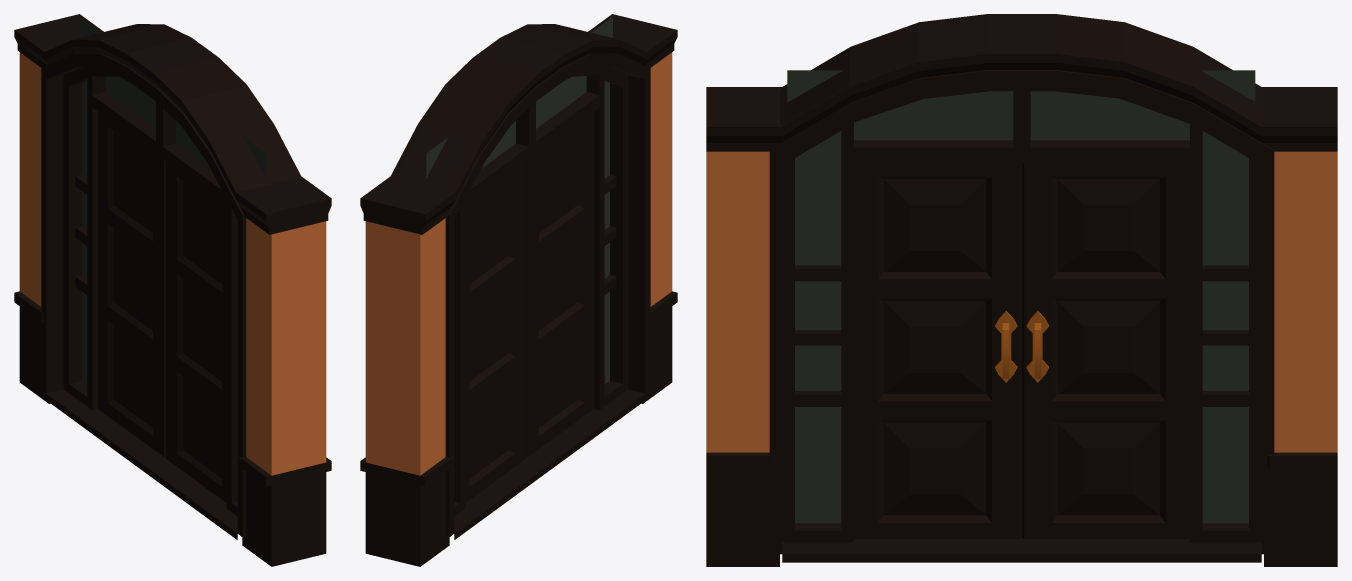
File: EntranceDoor_Final.fbx
The picture shows the model from 3 angles, left to right: view 1: azimuth 30°, elevation 25°; view 2: azimuth 150°, elevation 25°; view 3: azimuth 270°, elevation 25°; orthographic projection. The views are drawn at different scales.
Parts seen in each view (by area): view 1: S_EntranceDoor; view 2: S_EntranceDoor; view 3: S_EntranceDoor.
Part boxes in pixels (bbox=[...]): S_EntranceDoor: bbox=[14, 14, 331, 566]; S_EntranceDoor: bbox=[360, 14, 677, 566]; S_EntranceDoor: bbox=[706, 14, 1337, 566].
Size of the model in its own units: 0.5994 by 3.61 by 4.
